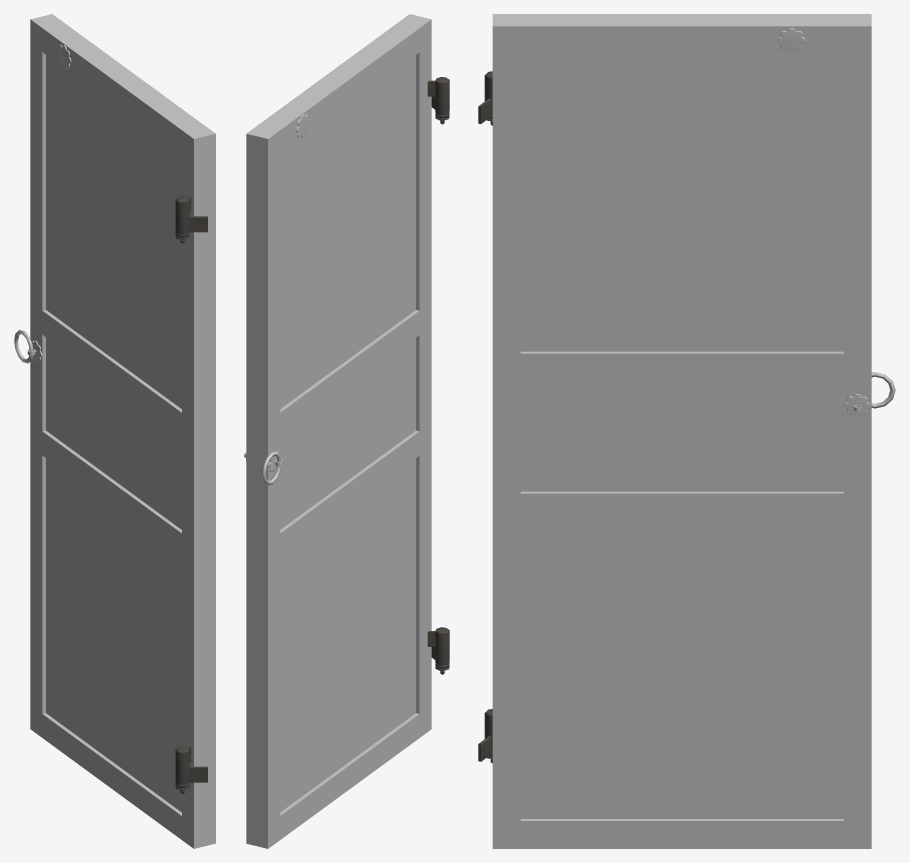
File: SM_GateDoor01M.fbx
3 renders of one model, left to right at view 1: azimuth 30°, elevation 25°; view 2: azimuth 150°, elevation 25°; view 3: azimuth 270°, elevation 25°, orthographic. The views are drawn at different scales.
Parts seen in each view (by area): view 1: SM_GateDoor01M; view 2: SM_GateDoor01M; view 3: SM_GateDoor01M.
Part boxes in pixels (x1,y1,x2,y2): SM_GateDoor01M: [14, 14, 215, 848]; SM_GateDoor01M: [244, 14, 449, 848]; SM_GateDoor01M: [478, 14, 895, 848].
Size of the model in its own units: 11.28 by 75 by 163.
